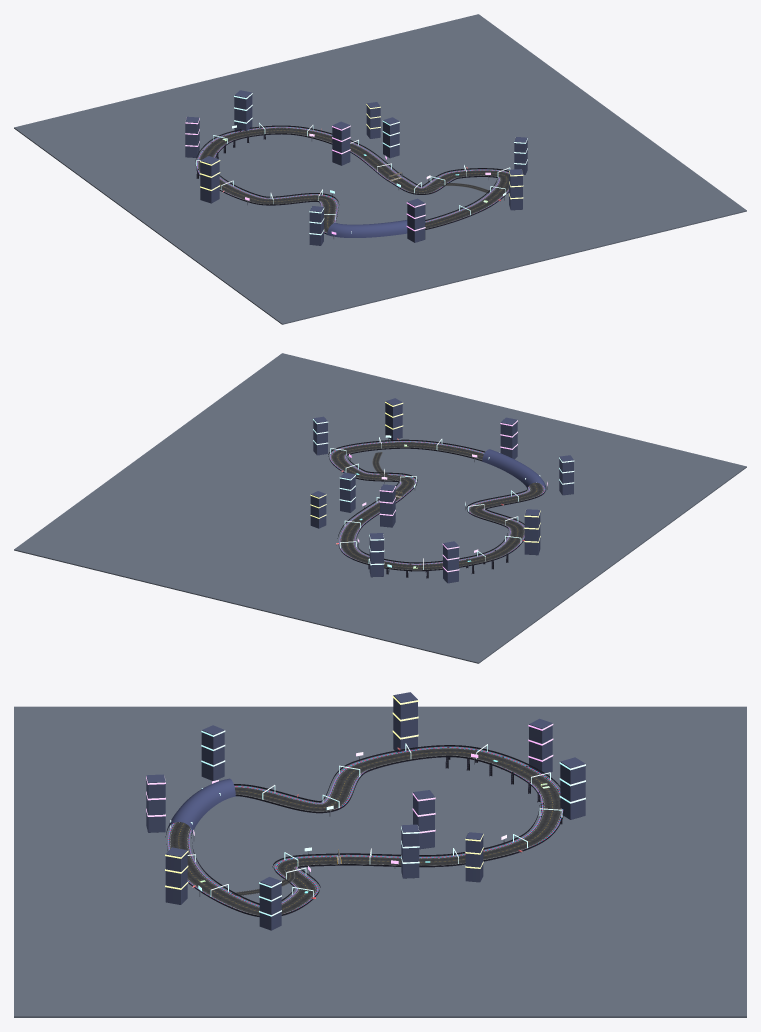
The model's file is cidade_neon.glb.
3 renders of one model, top to bottom at view 1: azimuth 30°, elevation 25°; view 2: azimuth 150°, elevation 25°; view 3: azimuth 270°, elevation 25°, orthographic. The views are drawn at different scales.
Parts seen in each view (by area): view 1: BiomeGroundBasin, MainRoadMesh, CoastalTunnelShell, RightStoneWall, Skyscraper_35_p0, LeftStoneWall, Skyscraper_31_p0, Skyscraper_37_p0, Skyscraper_33_p0, Skyscraper_30_p0, Skyscraper_34_p0, Skyscraper_36_p0 (+1 smaller); view 2: BiomeGroundBasin, MainRoadMesh, CoastalTunnelShell, RightStoneWall, LeftStoneWall, Skyscraper_35_p0, Skyscraper_38_p0, Skyscraper_37_p0, Skyscraper_31_p0, Skyscraper_33_p0, Skyscraper_34_p0, Skyscraper_30_p0 (+3 smaller); view 3: BiomeGroundBasin, MainRoadMesh, RightStoneWall, CoastalTunnelShell, Skyscraper_33_p0, LeftStoneWall, Skyscraper_35_p0, Skyscraper_36_p0, Skyscraper_38_p0, Skyscraper_34_p0, Skyscraper_37_p0, Skyscraper_39_p0 (+5 smaller).
Part boxes in pixels (x1,y1,x2,y2): BiomeGroundBasin: (14, 14, 746, 324); MainRoadMesh: (198, 127, 508, 232); CoastalTunnelShell: (327, 220, 407, 237); RightStoneWall: (195, 125, 508, 234); Skyscraper_35_p0: (200, 156, 219, 203); LeftStoneWall: (215, 133, 497, 220); Skyscraper_31_p0: (332, 121, 350, 165); Skyscraper_37_p0: (407, 198, 425, 242); Skyscraper_33_p0: (234, 90, 252, 132); Skyscraper_30_p0: (383, 117, 399, 158); Skyscraper_34_p0: (185, 116, 199, 157); Skyscraper_36_p0: (309, 206, 323, 245); BiomeGroundBasin: (14, 353, 746, 663); MainRoadMesh: (331, 442, 543, 570); CoastalTunnelShell: (482, 449, 546, 490); RightStoneWall: (328, 439, 546, 571); LeftStoneWall: (346, 447, 527, 563); Skyscraper_35_p0: (524, 509, 540, 555); Skyscraper_38_p0: (385, 398, 402, 439); Skyscraper_37_p0: (500, 417, 517, 459); Skyscraper_31_p0: (380, 484, 395, 527); Skyscraper_33_p0: (369, 533, 383, 577); Skyscraper_34_p0: (443, 541, 458, 583); Skyscraper_30_p0: (340, 472, 355, 512); BiomeGroundBasin: (14, 706, 746, 1017); MainRoadMesh: (169, 748, 561, 915); RightStoneWall: (165, 745, 564, 916); CoastalTunnelShell: (167, 778, 235, 833); Skyscraper_33_p0: (560, 757, 585, 819); LeftStoneWall: (191, 755, 540, 904); Skyscraper_35_p0: (393, 692, 417, 752); Skyscraper_36_p0: (201, 725, 224, 780); Skyscraper_38_p0: (165, 847, 187, 904); Skyscraper_34_p0: (529, 718, 552, 775); Skyscraper_37_p0: (146, 774, 165, 832); Skyscraper_39_p0: (259, 877, 281, 930).
Bounding box in the file's own units: 640 × 62.19 × 640.
15 materials, 6 textured.
